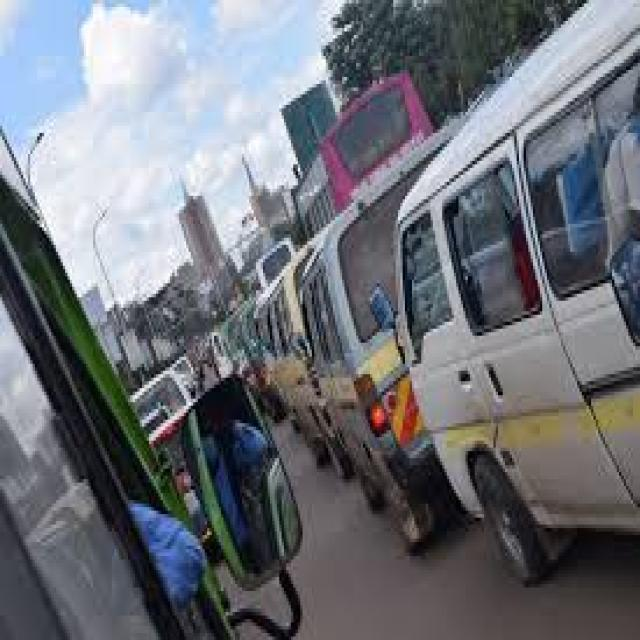bus: (290, 53, 458, 178)
matatu: (378, 191, 632, 565), (290, 274, 364, 494)
